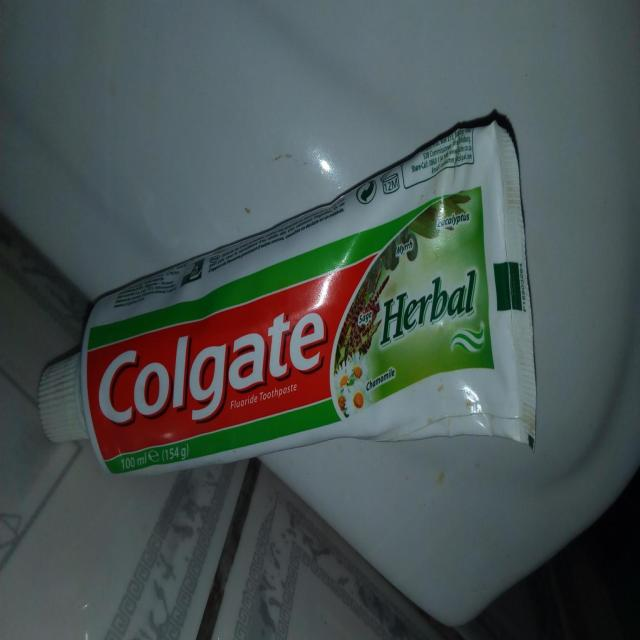Toothpaste: (31, 116, 538, 475)
